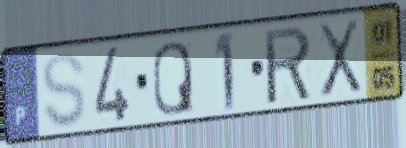1: (212, 30, 238, 114)
4: (92, 43, 132, 125)
Q: (151, 38, 197, 118)
R: (262, 23, 315, 108)
S: (40, 51, 89, 131)
X: (315, 15, 363, 102)
